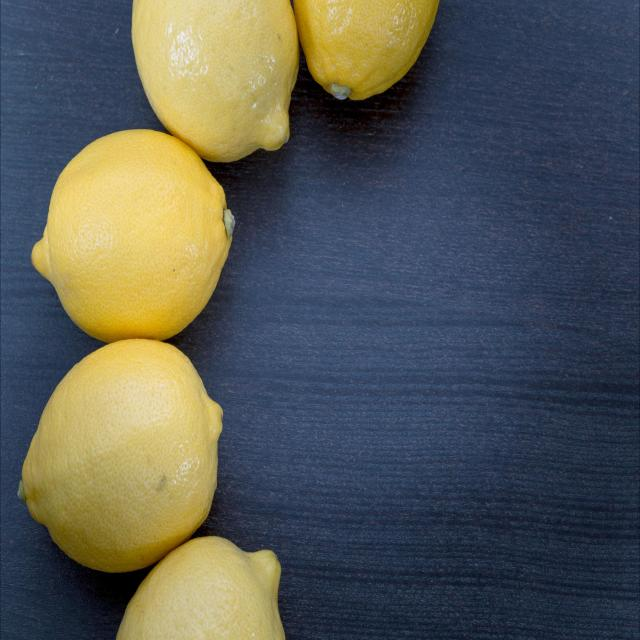lemon: (11, 332, 230, 581), (29, 122, 241, 351)
